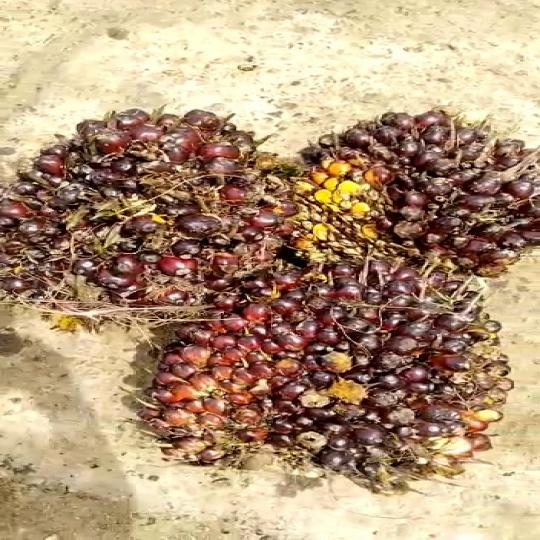kurang masak: (121, 239, 535, 498), (0, 112, 299, 322), (276, 109, 540, 297)
